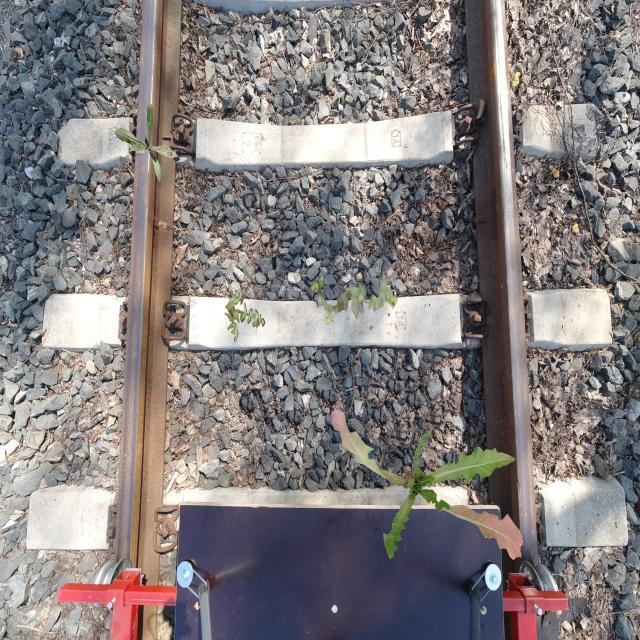Plant: (331, 409, 524, 561), (114, 103, 178, 187), (311, 273, 398, 324), (224, 289, 266, 343)
